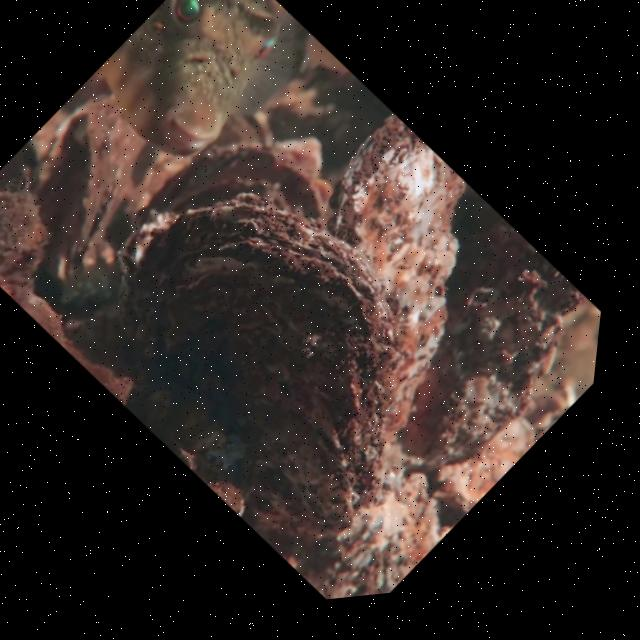Oyster-Closed: (43, 113, 117, 286)
Oyster-Indeterminate: (116, 198, 411, 545), (333, 111, 470, 438), (388, 265, 568, 476), (293, 473, 440, 599)
Oyster-Open: (142, 137, 330, 221)
